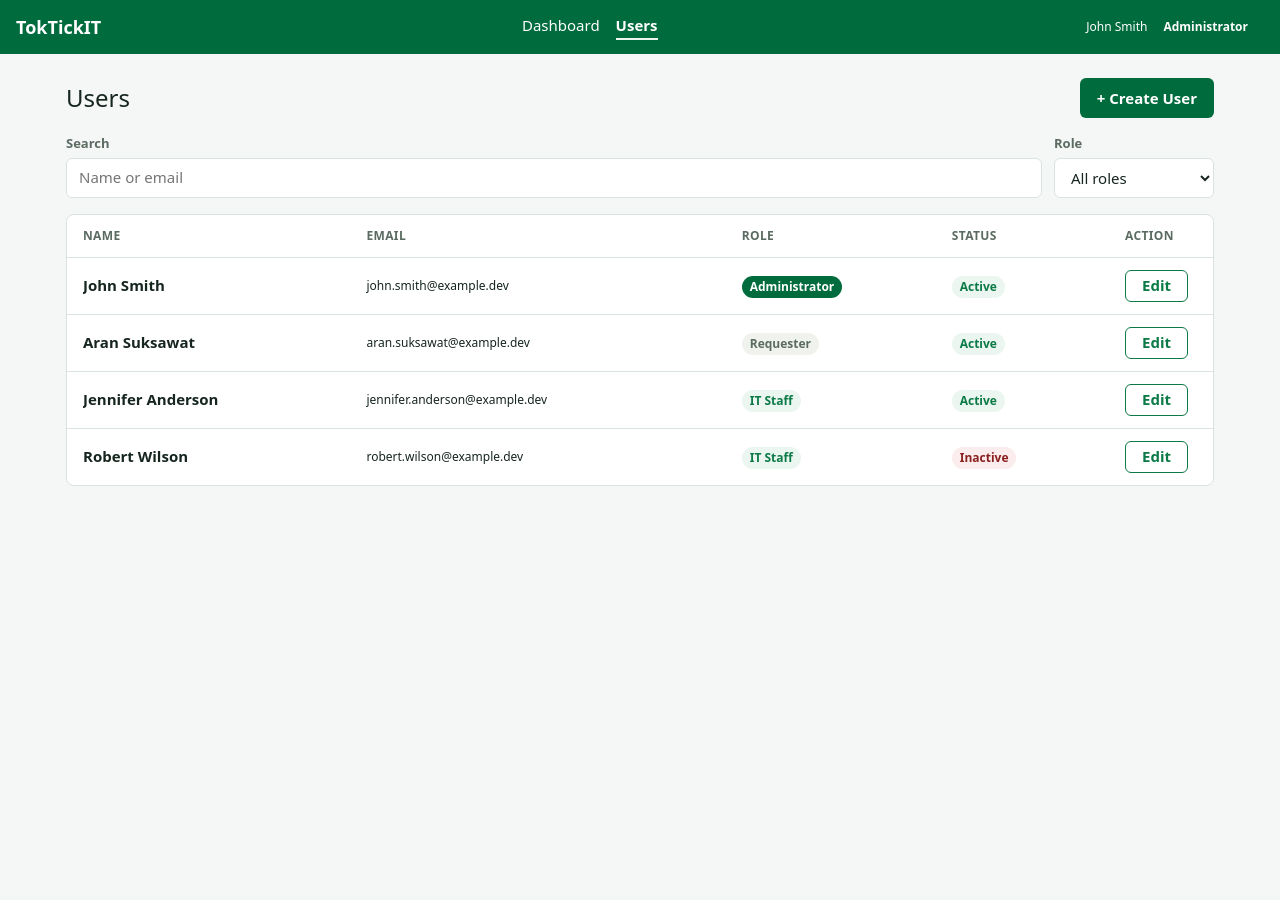
Test case: Administrator User Management screen › disables Role and Active with an explanation when the Administrator edits their own account
This screenshot has width=1280, height=900.
What coordinates should you click on to do the following:
click the button "Edit" in the row of "john.smith@example.dev"
I would click on:
 (1156, 286)
Its box is [1125, 270, 1188, 302].
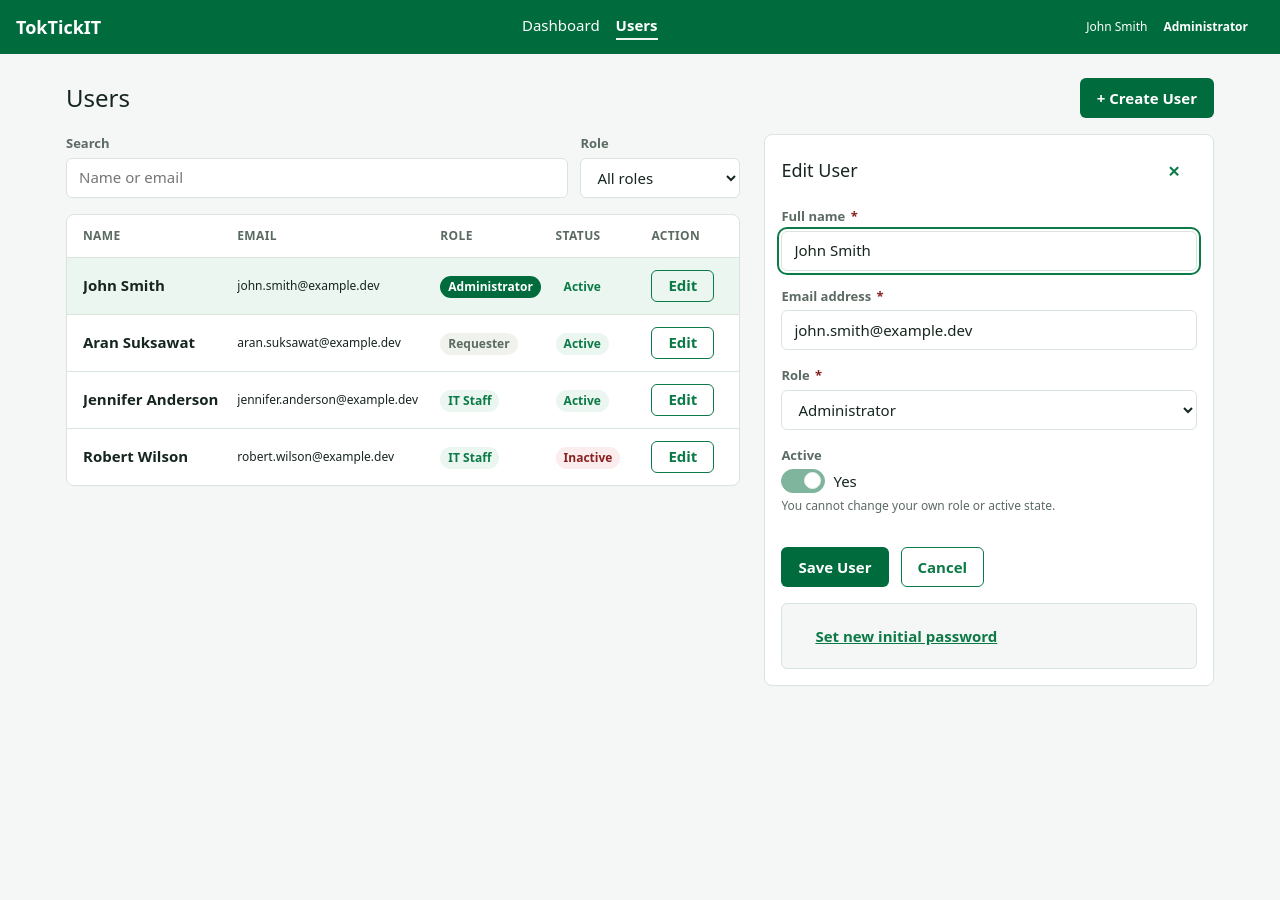
Expected: the dropdown labelled "Role *" is disabled, [781, 390, 1197, 430]
Expected: the switch labelled "Active" is disabled, [781, 469, 825, 493]
Expected: the text "You cannot change your own role or active state." is shown, [781, 497, 1055, 514]
